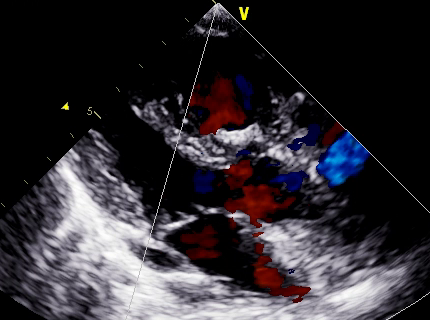AR: (203, 154, 289, 226)
